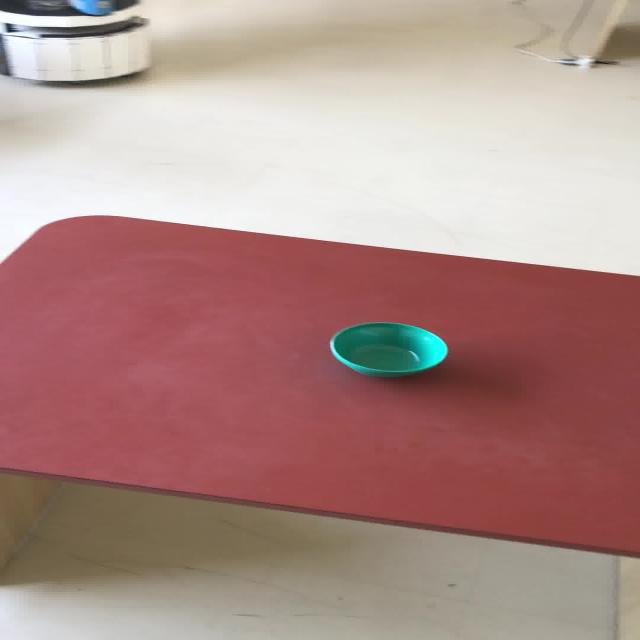bowl: (327, 321, 448, 378)
